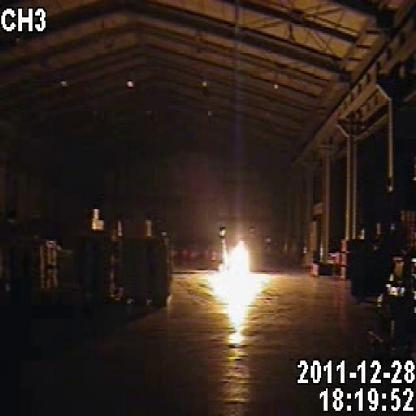fire: (205, 224, 283, 333)
